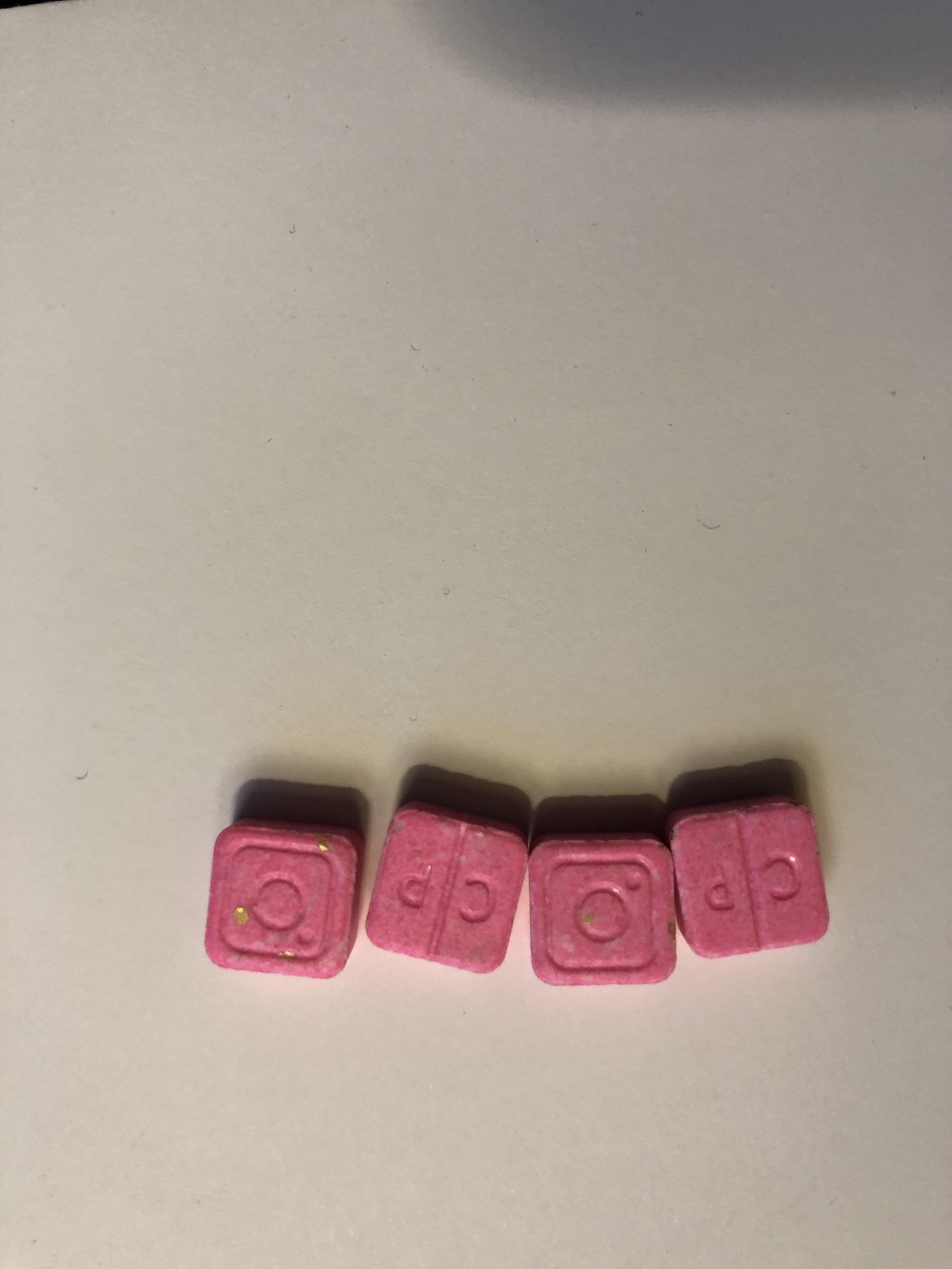Square: (363, 795, 532, 975), (666, 790, 837, 958), (204, 812, 365, 982), (527, 825, 679, 988)
